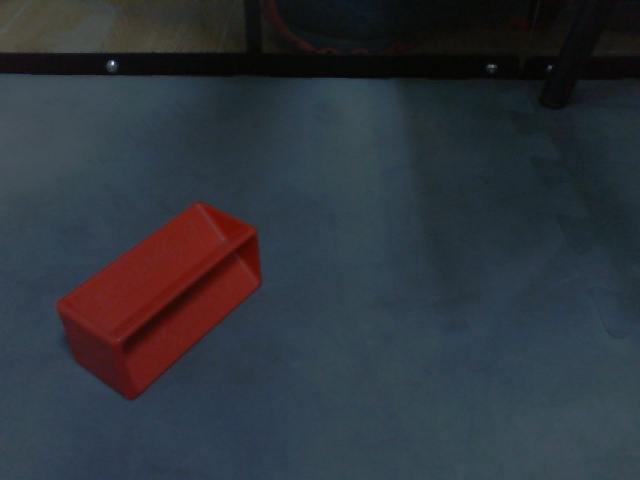RedSample: (53, 197, 265, 404)
